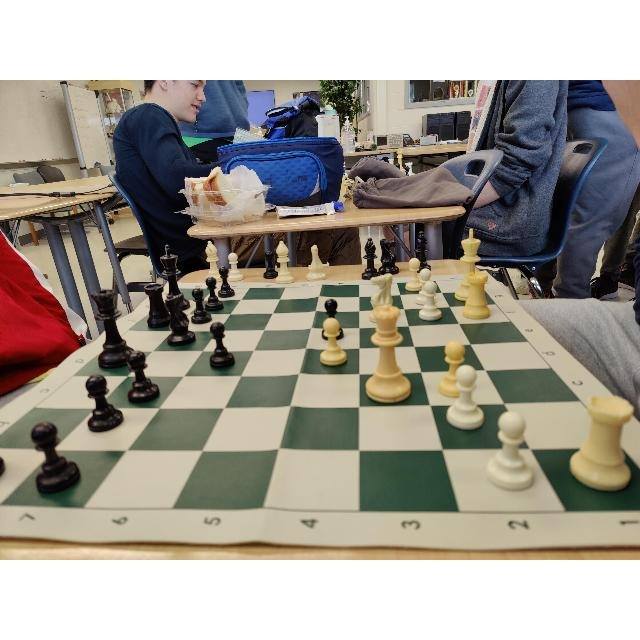black-king: (159, 246, 190, 310)
black-knight: (165, 293, 196, 348)
black-pawn: (31, 420, 81, 495), (85, 374, 124, 432), (128, 351, 160, 403), (209, 322, 236, 370), (323, 299, 343, 340), (192, 288, 212, 324), (206, 276, 224, 312), (218, 266, 234, 298)
black-queen: (92, 289, 136, 371)
black-rook: (143, 282, 171, 328)
white-king: (455, 228, 480, 302)
white-knight: (367, 272, 392, 323)
white-pawn: (487, 412, 535, 492), (445, 365, 484, 429), (437, 340, 465, 397), (320, 317, 348, 367), (419, 280, 443, 321), (406, 258, 422, 291), (418, 269, 432, 305)
white-queen: (366, 305, 411, 403)
white-rook: (569, 394, 635, 490), (462, 270, 492, 320)
